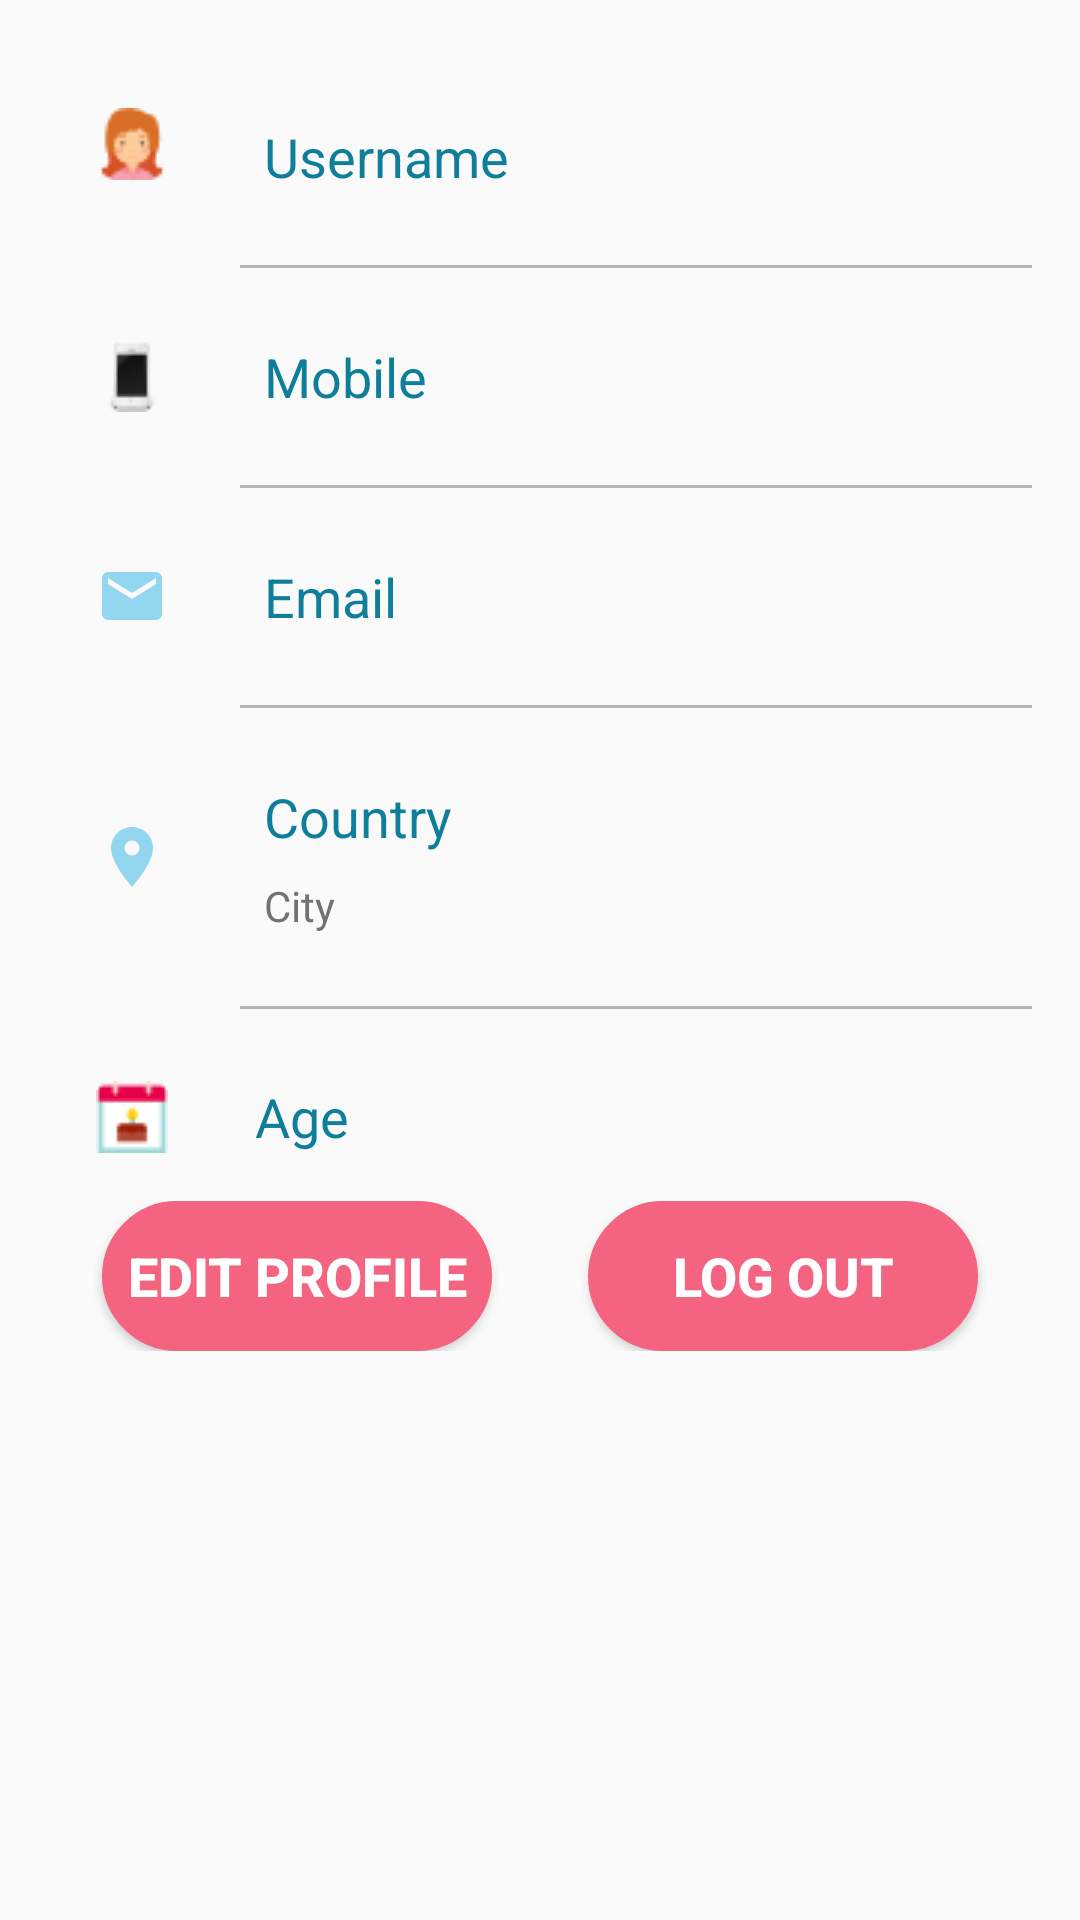

Where to tap for icons on this 1080px×1920px app screen, as (x=x, y=y):
birthdate: (x=132, y=1117)
girl: (x=132, y=144)
location on: (x=132, y=857)
